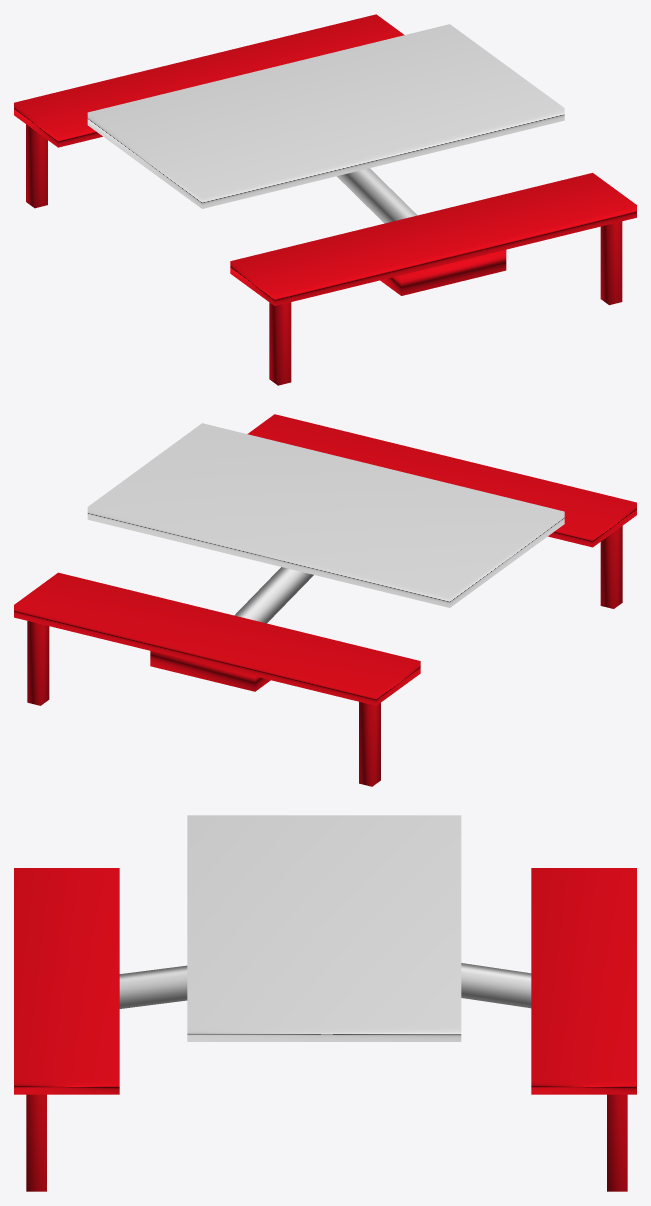
Rendered from PatioTable.fbx.
3 renders of one model, top to bottom at view 1: azimuth 30°, elevation 25°; view 2: azimuth 150°, elevation 25°; view 3: azimuth 270°, elevation 25°, orthographic. The views are drawn at different scales.
Parts seen in each view (by area): view 1: Cube, Cube.002, Cube.001, Cube.007, Cube.005, Cube.009, Cube.008, Cube.012; view 2: Cube, Cube.001, Cube.002, Cube.004, Cube.010, Cube.006, Cube.012, Cube.009; view 3: Cube, Cube.001, Cube.002, Cube.004, Cube.005, Cube.008, Cube.010.
Boxes of the visible parts, x1,y1,x2,y2 form: Cube: [87, 24, 564, 208]; Cube.002: [230, 173, 636, 305]; Cube.001: [14, 14, 404, 147]; Cube.007: [380, 249, 506, 295]; Cube.005: [337, 168, 417, 223]; Cube.009: [269, 302, 291, 385]; Cube.008: [600, 221, 622, 305]; Cube.012: [26, 124, 47, 208]; Cube: [87, 423, 564, 607]; Cube.001: [14, 572, 420, 705]; Cube.002: [247, 414, 636, 547]; Cube.004: [234, 567, 313, 623]; Cube.010: [27, 621, 49, 705]; Cube.006: [150, 651, 270, 691]; Cube.012: [359, 702, 380, 786]; Cube.009: [600, 526, 622, 608]; Cube: [187, 815, 461, 1041]; Cube.001: [531, 868, 636, 1094]; Cube.002: [14, 868, 119, 1094]; Cube.004: [461, 963, 531, 1008]; Cube.005: [119, 965, 187, 1008]; Cube.008: [26, 1094, 46, 1191]; Cube.010: [607, 1094, 627, 1191].
Bounding box in the file's own units: 4.85 × 1.82 × 6.05.
